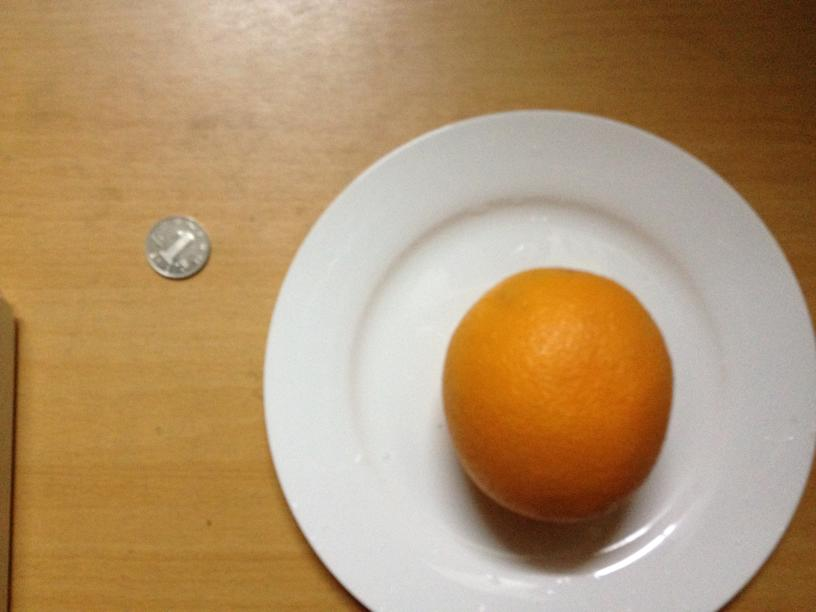coin: (145, 213, 211, 277)
orange: (444, 271, 669, 523)
